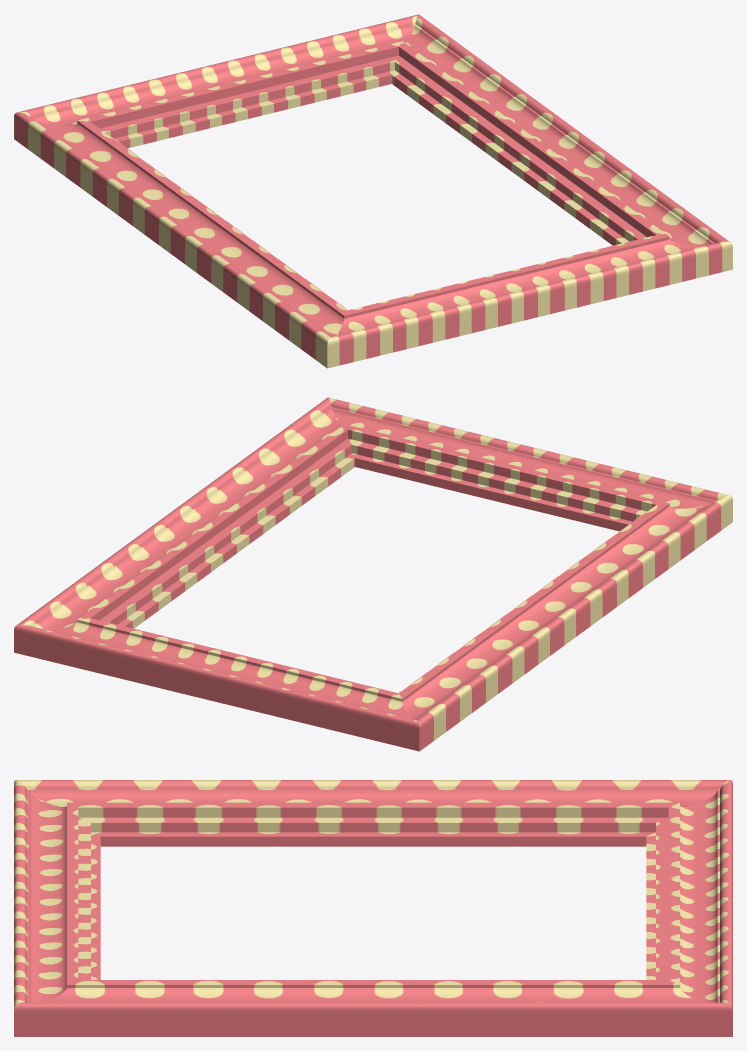
File: M_frame_02.fbx
3 renders of one model, top to bottom at view 1: azimuth 30°, elevation 25°; view 2: azimuth 150°, elevation 25°; view 3: azimuth 270°, elevation 25°, orthographic. The views are drawn at different scales.
Parts seen in each view (by area): view 1: Shape001; view 2: Shape001; view 3: Shape001.
Part boxes in pixels (x1,y1,x2,y2): Shape001: (14, 14, 732, 368); Shape001: (14, 397, 732, 751); Shape001: (14, 780, 732, 1036).
Size of the model in its own units: 1.85 by 0.1198 by 2.48.
